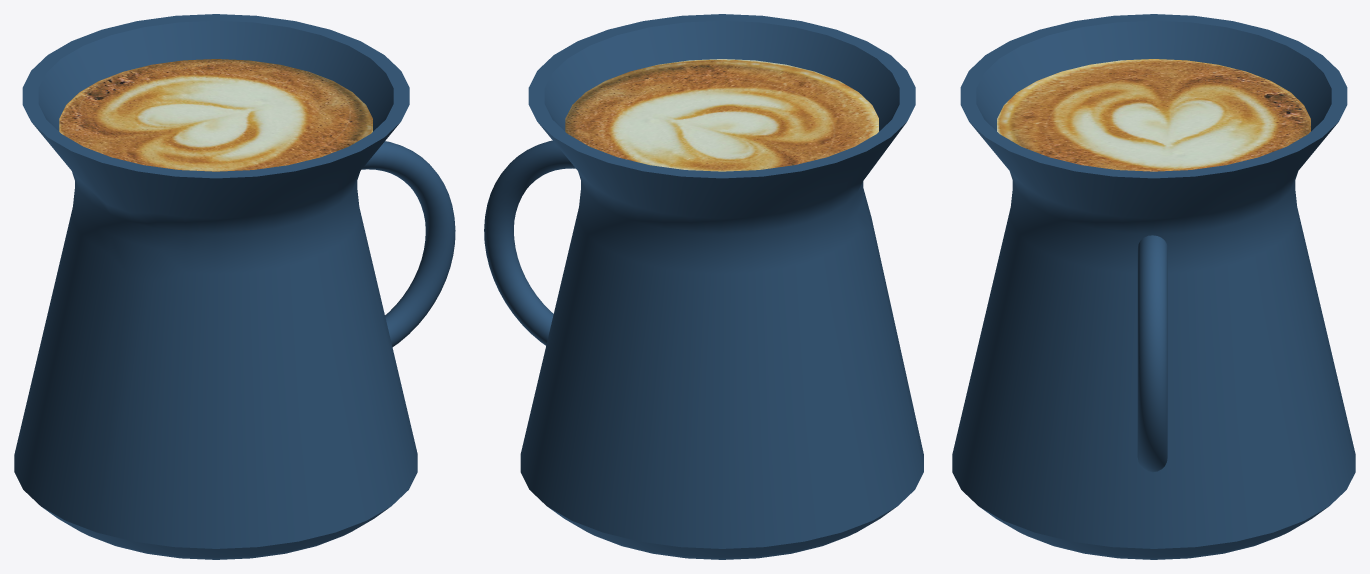
File: Cup 2 Model.fbx
The picture shows the model from 3 angles, left to right: view 1: azimuth 30°, elevation 25°; view 2: azimuth 150°, elevation 25°; view 3: azimuth 270°, elevation 25°; orthographic projection.
Parts seen in each view (by area): view 1: Cup2_Main; view 2: Cup2_Main; view 3: Cup2_Main.
Boxes of the visible parts, x1=… form: Cup2_Main: x1=14, y1=14, x2=455, y2=559; Cup2_Main: x1=484, y1=14, x2=923, y2=559; Cup2_Main: x1=952, y1=14, x2=1355, y2=559.
Bounding box in the file's own units: 2.44 × 2.25 × 2.06.
Materials: 1 (1 with a texture image).
